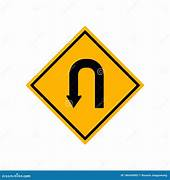back: (26, 25, 145, 145)
